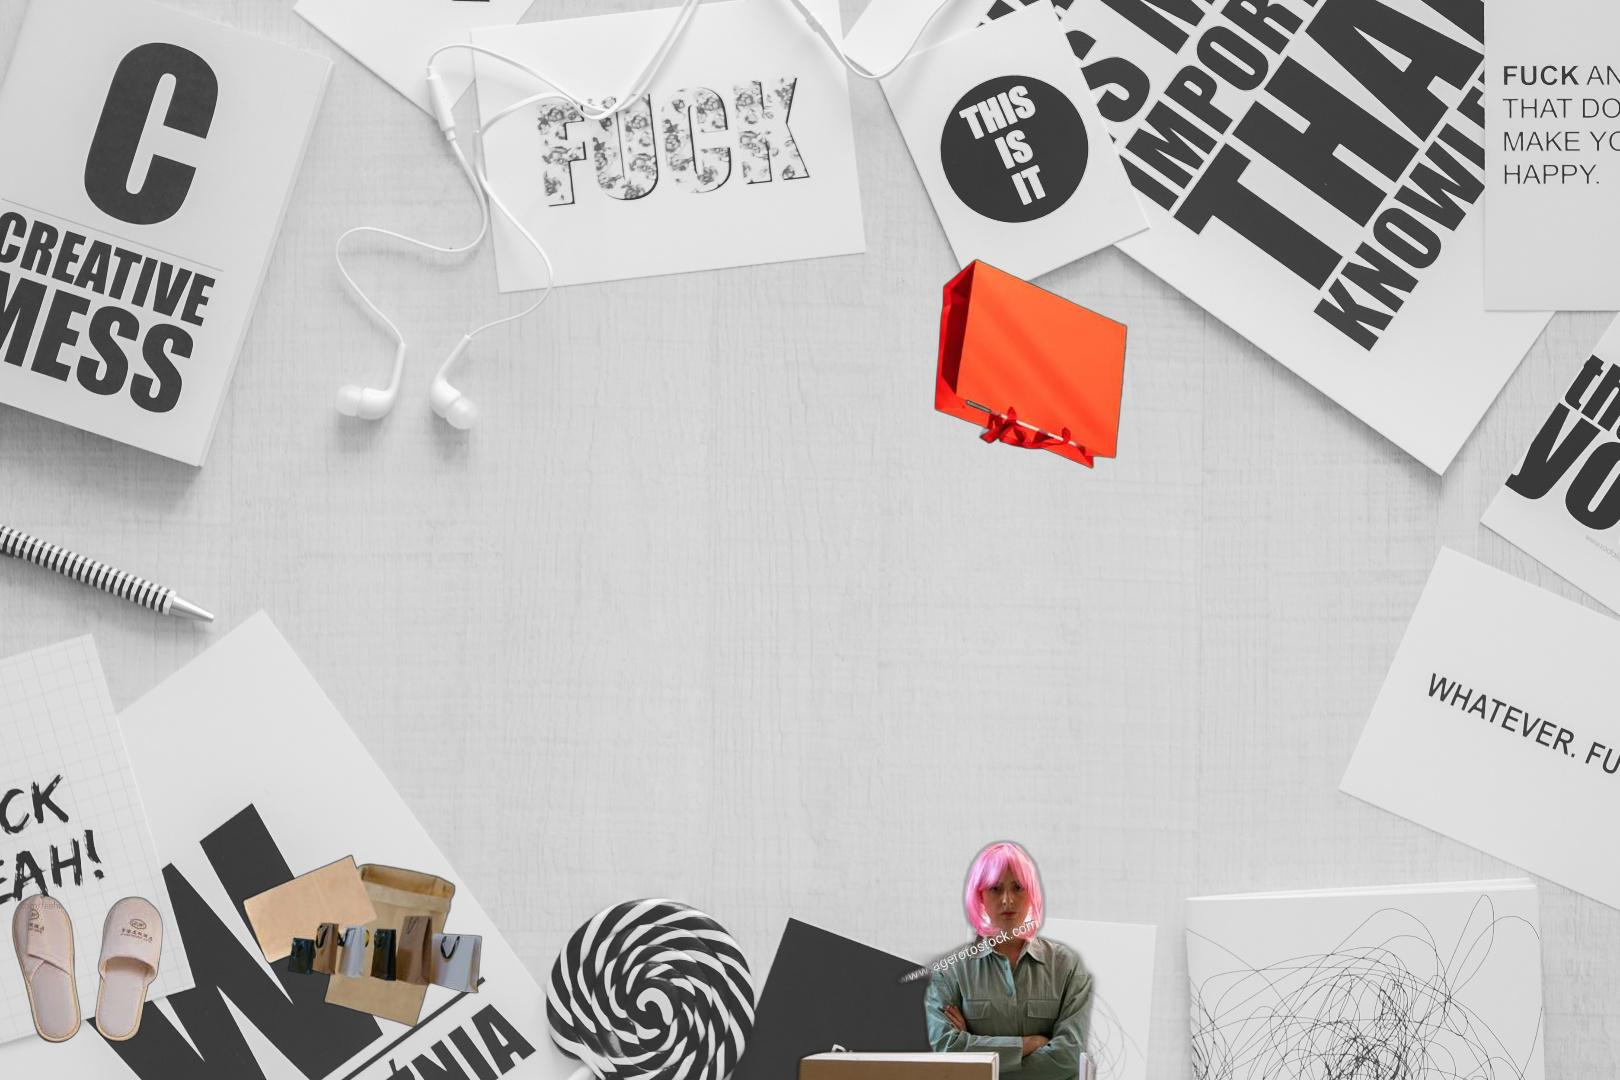paper-bag: (240, 855, 485, 1029), (933, 256, 1129, 471)
shoes: (10, 891, 166, 1045)
trashbox-cardboard: (768, 837, 1132, 1080)
